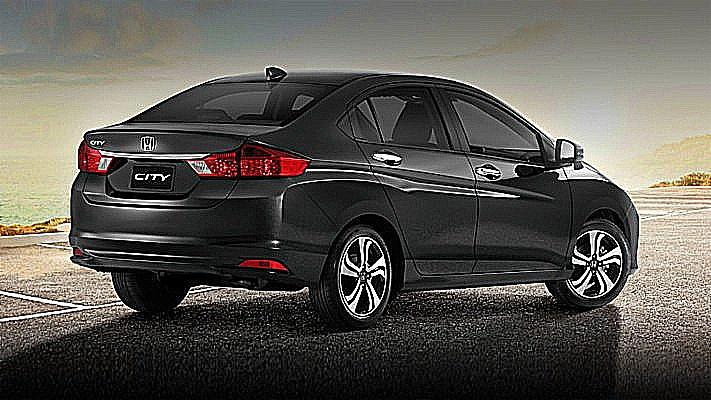Car boot: (76, 118, 274, 215)
Driver-s door - -F-R-: (431, 71, 574, 282)
Fender - -F-R-: (546, 145, 636, 279)
Fender - -R-L-: (253, 110, 394, 249)
Front bumper: (616, 193, 642, 282)
Passenger-s door - -R-R-: (337, 78, 483, 283)
Rear bumper: (66, 173, 341, 293)
Rear light - -L-: (78, 141, 114, 174)
Rear light - -R-: (184, 136, 311, 181)
Side bumper - -R-: (402, 255, 572, 296)
Side mirror - -R-: (546, 138, 586, 174)
